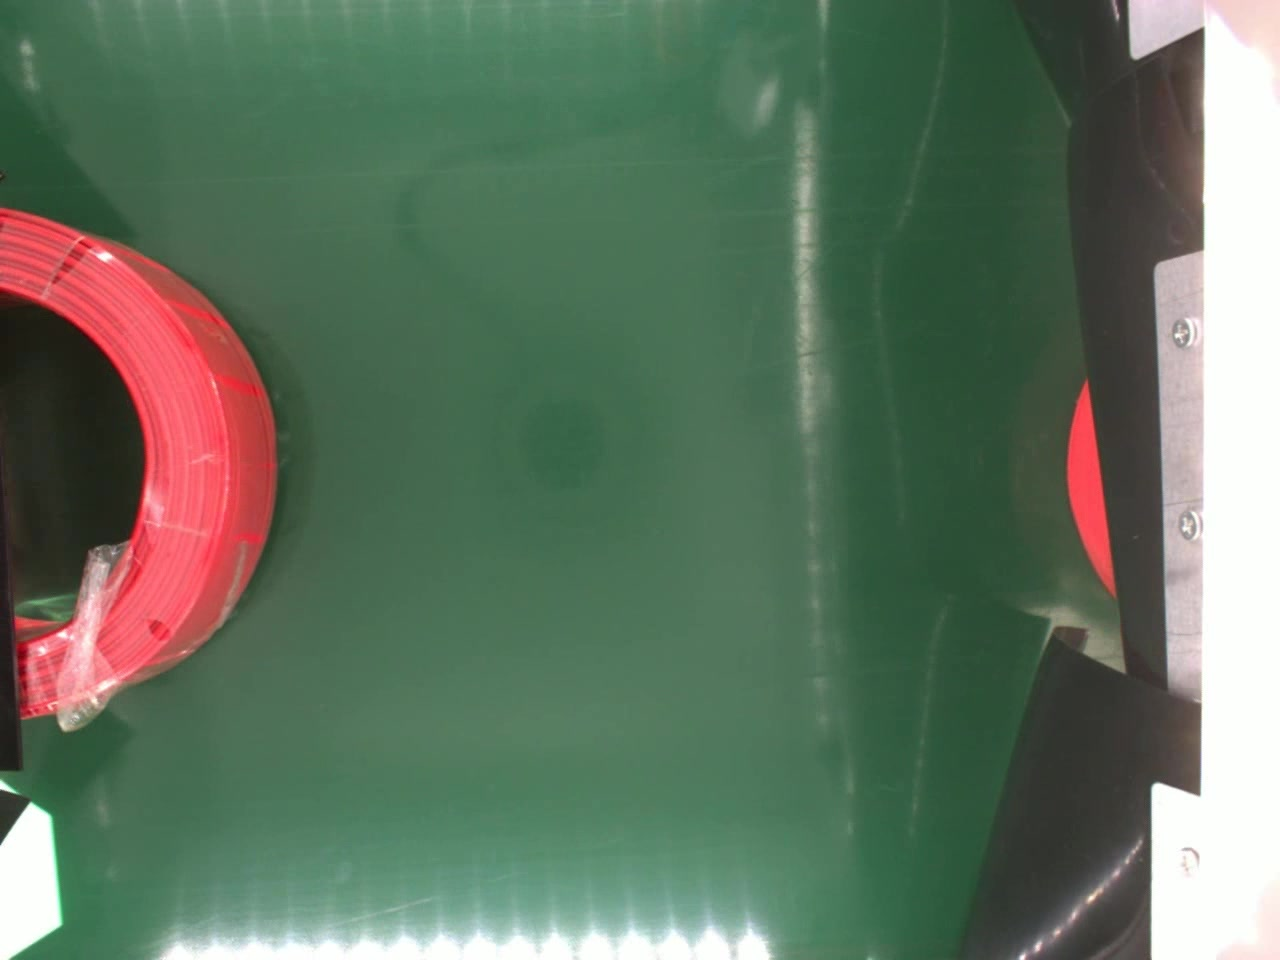red: (0, 201, 284, 718)
